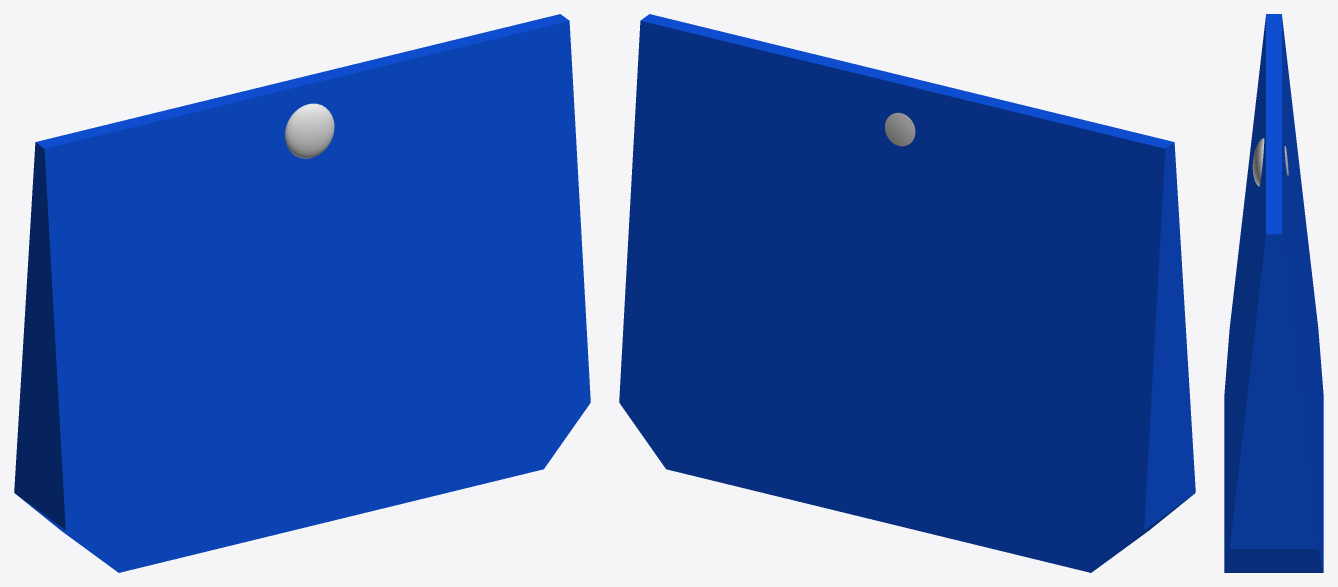
The model's file is final_wallet.glb.
3 renders of one model, left to right at view 1: azimuth 30°, elevation 25°; view 2: azimuth 150°, elevation 25°; view 3: azimuth 270°, elevation 25°, orthographic. The views are drawn at different scales.
Parts seen in each view (by area): view 1: Cube.001, 구체; view 2: Cube.001, 실린더; view 3: Cube.001, 구체.
Boxes of the visible parts, x1,y1,x2,y2 form: Cube.001: [14, 14, 590, 572]; 구체: [285, 103, 334, 158]; Cube.001: [619, 14, 1195, 572]; 실린더: [885, 112, 915, 146]; Cube.001: [1224, 14, 1323, 572]; 구체: [1252, 138, 1264, 186].
Size of the model in its own units: 10.5 by 8 by 2.
